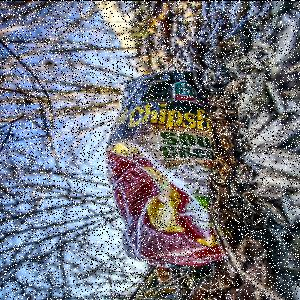Trash: (102, 68, 224, 267)
